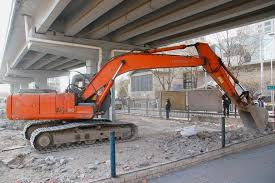excavator: (6, 43, 270, 152)
